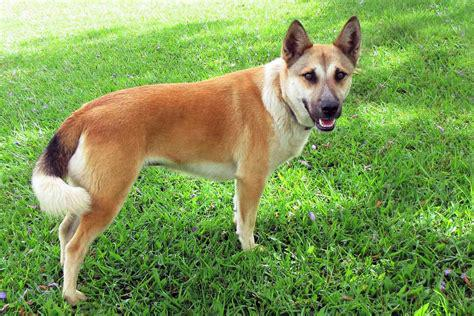dog: (33, 16, 359, 304)
